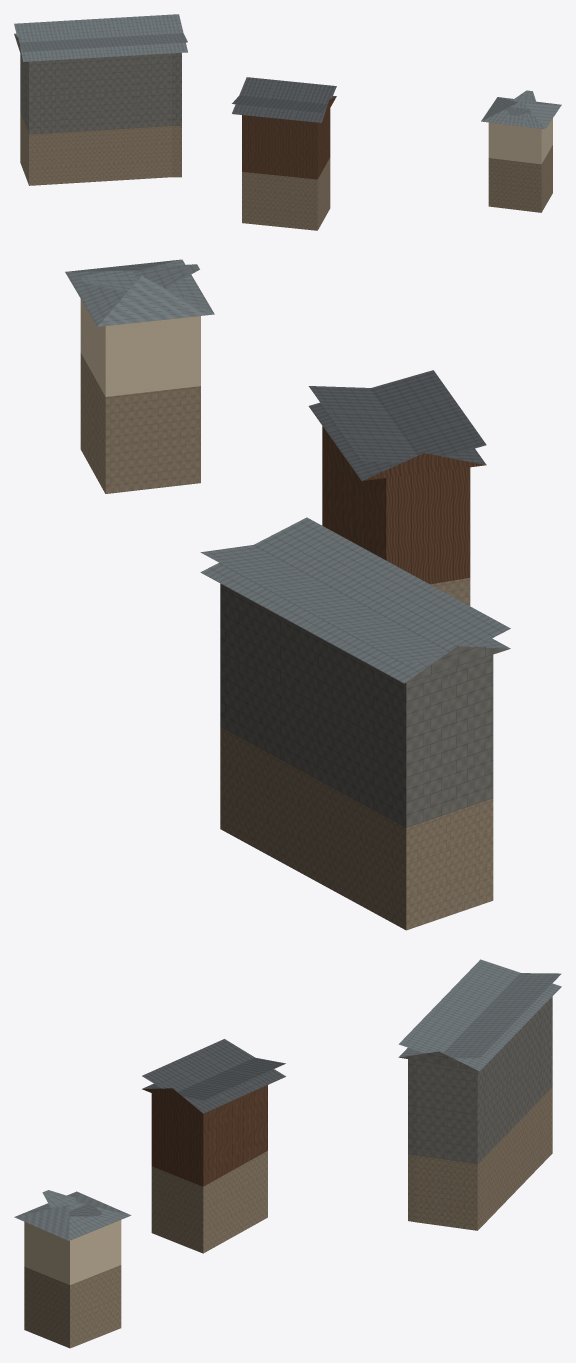
Rendered from bld_c43_-40_419.gltf.
3 renders of one model, top to bottom at view 1: azimuth 30°, elevation 25°; view 2: azimuth 150°, elevation 25°; view 3: azimuth 270°, elevation 25°, orthographic. The views are drawn at different scales.
Parts seen in each view (by area): view 1: bld_c43_-40_419; view 2: bld_c43_-40_419; view 3: bld_c43_-40_419.
Boxes of the visible parts, x1,y1,x2,y2 form: bld_c43_-40_419: (14,14,561,230); bld_c43_-40_419: (65,259,510,930); bld_c43_-40_419: (14,959,561,1348).
Size of the model in its own units: 39.65 by 13.6 by 37.89.
8 materials, 8 textured.
